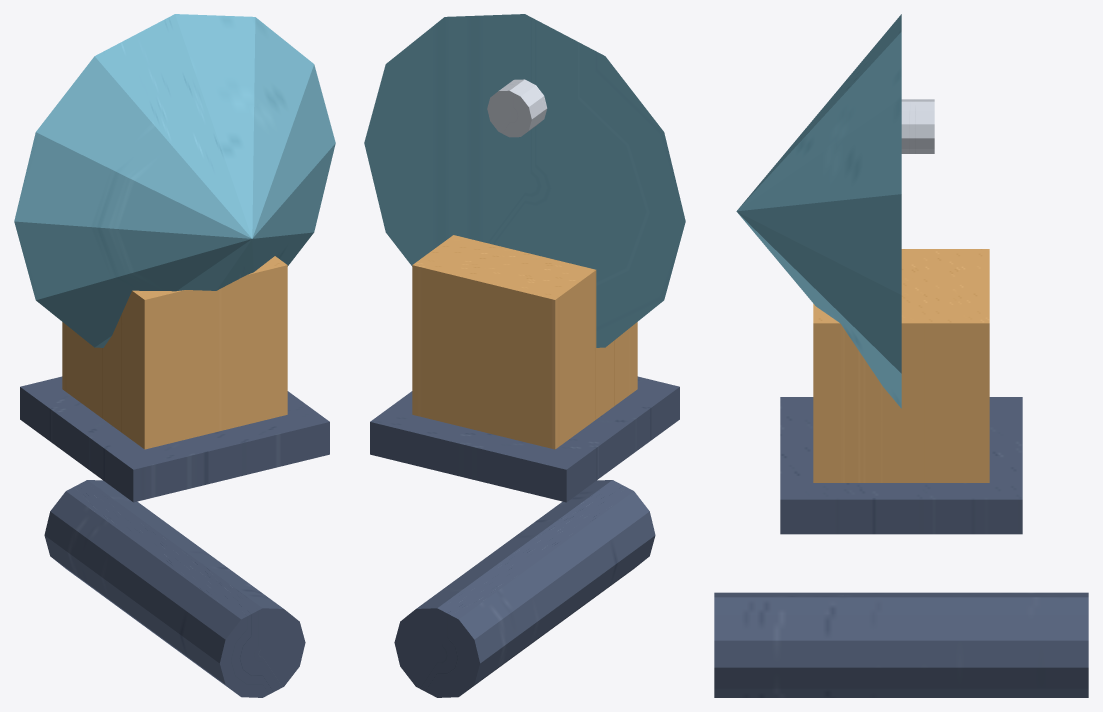
File: ice_lantern_lod0.glb
3 views of the same model, side by side, from view 1: azimuth 30°, elevation 25°; view 2: azimuth 150°, elevation 25°; view 3: azimuth 270°, elevation 25° (orthographic). The views are drawn at different scales.
Parts seen in each view (by area): view 1: ice_3, gold_2, stone_0, stone_1; view 2: ice_3, gold_2, stone_0, stone_1, snow_4; view 3: stone_0, ice_3, gold_2, stone_1, snow_4.
Boxes of the visible parts, box(x1,y1,x2,y2) form: ice_3: box(14, 14, 335, 347); gold_2: box(62, 256, 287, 449); stone_0: box(44, 480, 305, 697); stone_1: box(20, 376, 329, 502); ice_3: box(364, 14, 685, 347); gold_2: box(412, 235, 637, 449); stone_0: box(394, 480, 655, 697); stone_1: box(370, 376, 679, 502); snow_4: box(487, 79, 547, 137); stone_0: box(714, 592, 1088, 697); ice_3: box(736, 14, 901, 408); gold_2: box(813, 249, 989, 482); stone_1: box(780, 397, 1022, 534); snow_4: box(901, 99, 934, 153).
Bounding box in the file's own units: 3.6 × 6.63 × 3.4.
Materials: 4 (4 with a texture image).
